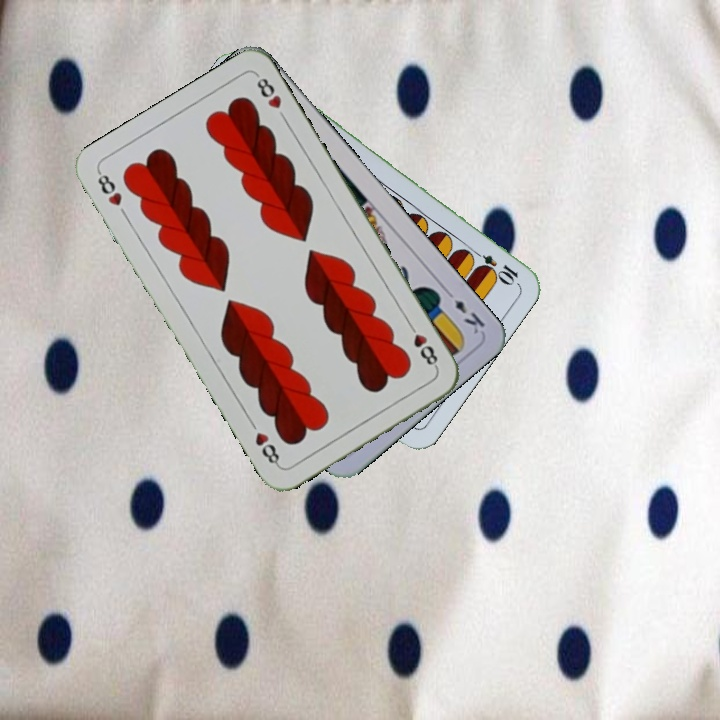E10: (466, 245, 521, 287)
EK: (441, 285, 488, 337)
H8: (93, 168, 131, 221), (404, 318, 441, 371)
